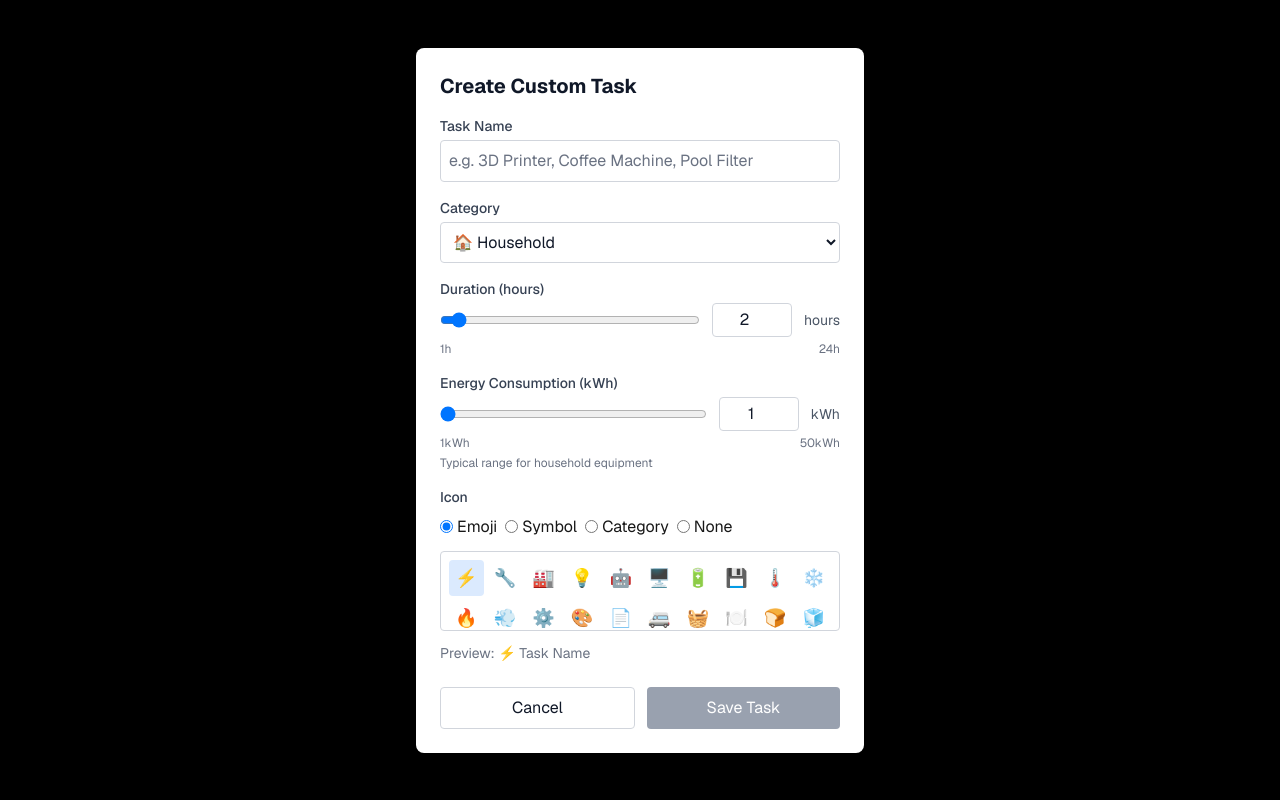
Test case: CustomTaskModal › User Interactions › should handle category icon selection
Click the radio button showing "category" at (592, 526), box [585, 520, 598, 533]
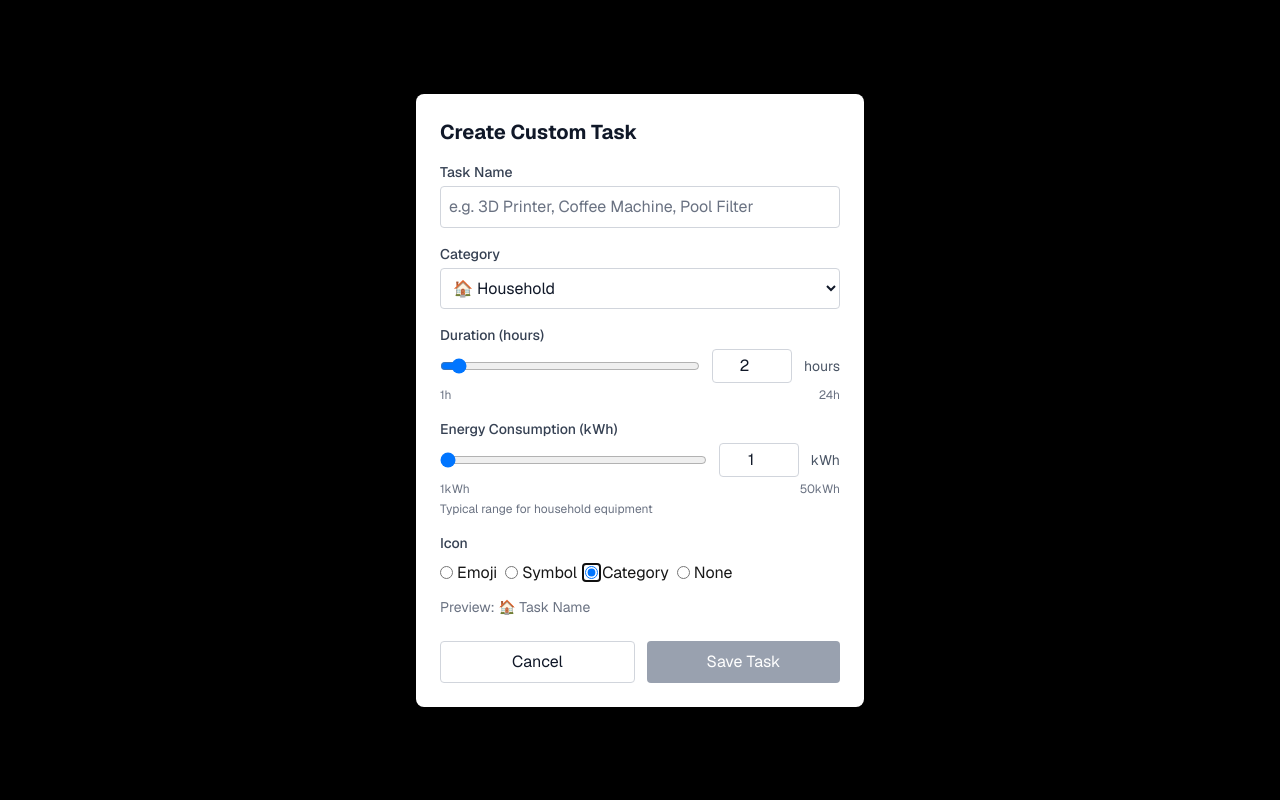
Now the text "Preview: 🏠 Task Name" is shown, box [440, 598, 590, 616]
